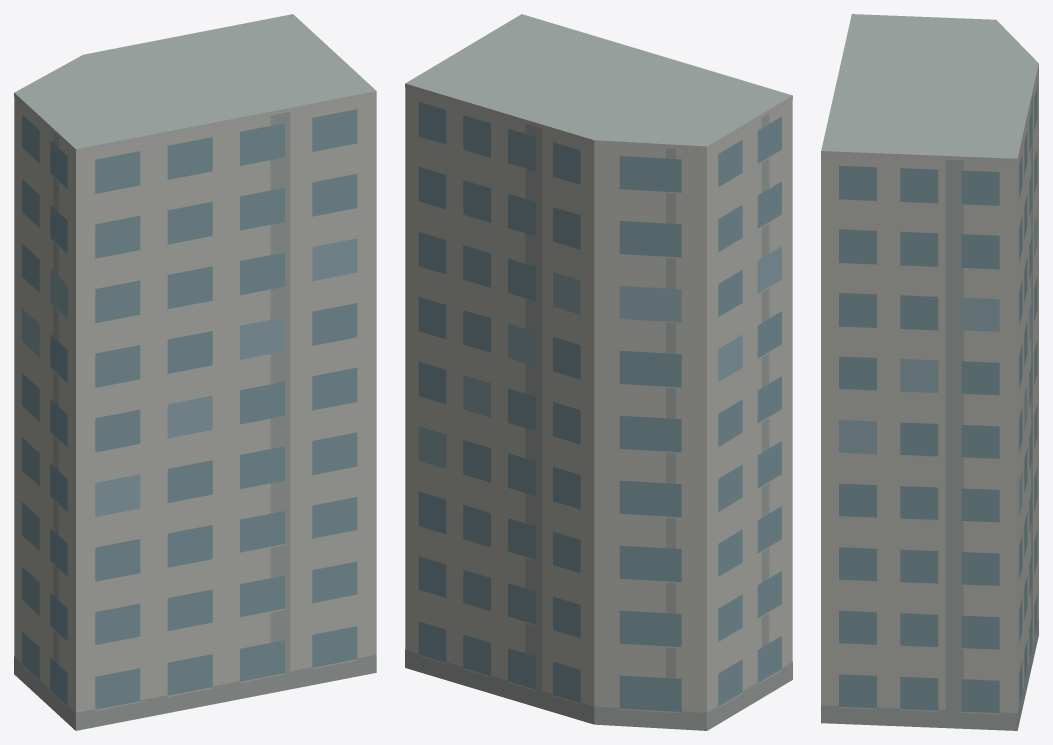
The model's file is residential-7b1d1d21-6f8d-491b-9775-017f7539f1c1.glb.
3 renders of one model, left to right at view 1: azimuth 30°, elevation 25°; view 2: azimuth 150°, elevation 25°; view 3: azimuth 270°, elevation 25°, orthographic. The views are drawn at different scales.
Parts seen in each view (by area): view 1: residential-7b1d1d21-6f8d-491b-9775-017f7539f1c1.tmp; view 2: residential-7b1d1d21-6f8d-491b-9775-017f7539f1c1.tmp; view 3: residential-7b1d1d21-6f8d-491b-9775-017f7539f1c1.tmp.
Part boxes in pixels (<box>): residential-7b1d1d21-6f8d-491b-9775-017f7539f1c1.tmp: <box>14,14,376,730</box>; residential-7b1d1d21-6f8d-491b-9775-017f7539f1c1.tmp: <box>405,14,792,730</box>; residential-7b1d1d21-6f8d-491b-9775-017f7539f1c1.tmp: <box>821,14,1038,730</box>.
Size of the model in its own units: 19.54 by 36 by 12.42.
